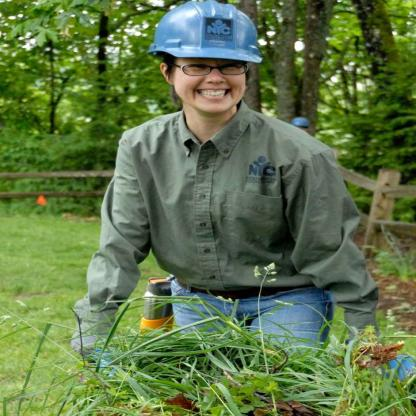Helmet: (151, 0, 261, 62)
